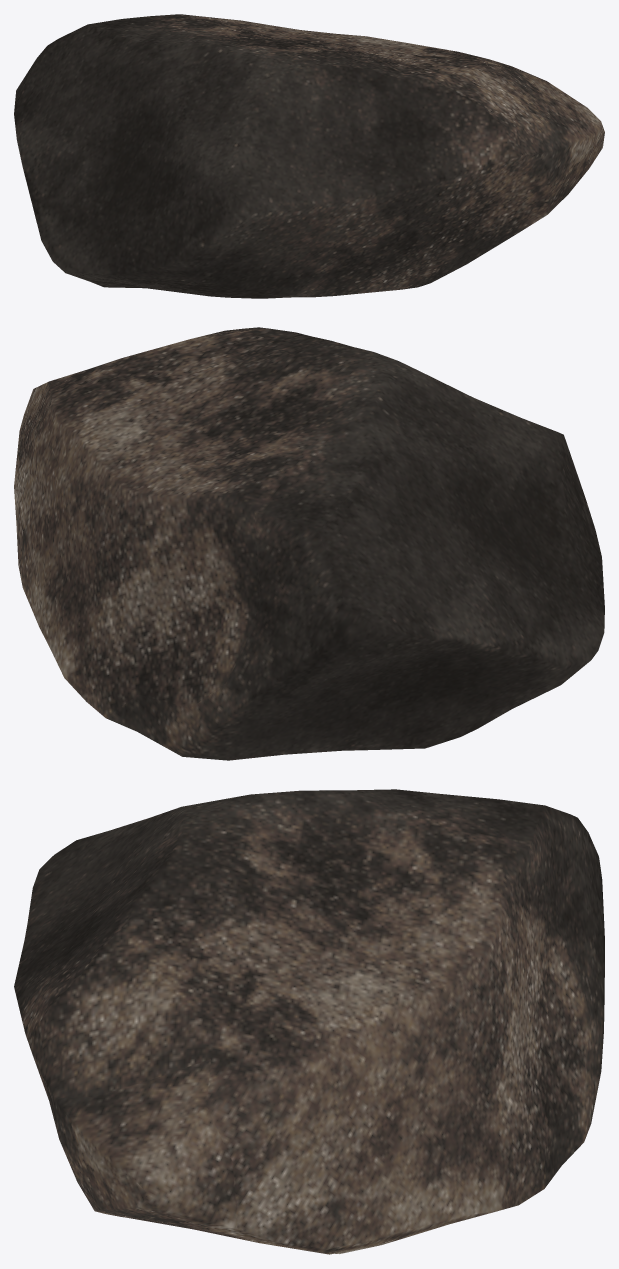
The model's file is SM_RP_Rock_4m_6.glb.
3 views of the same model, one above another, from view 1: azimuth 30°, elevation 25°; view 2: azimuth 150°, elevation 25°; view 3: azimuth 270°, elevation 25° (orthographic). The views are drawn at different scales.
Parts seen in each view (by area): view 1: SM_RP_Rock_4m_6; view 2: SM_RP_Rock_4m_6; view 3: SM_RP_Rock_4m_6.
Boxes of the visible parts, x1=… form: SM_RP_Rock_4m_6: x1=14, y1=14, x2=604, y2=298; SM_RP_Rock_4m_6: x1=14, y1=327, x2=604, y2=760; SM_RP_Rock_4m_6: x1=14, y1=789, x2=604, y2=1254.
Size of the model in its own units: 7.45 by 3.73 by 5.49.
Materials: 1 (1 with a texture image).
